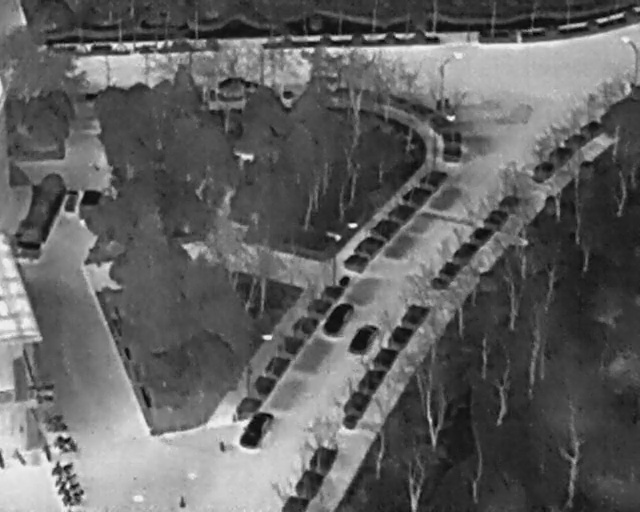Bicycle: (58, 484, 91, 511), (53, 474, 83, 497), (49, 457, 76, 476), (51, 466, 77, 485), (9, 444, 30, 467), (48, 432, 73, 448), (54, 440, 79, 456), (39, 441, 55, 465), (31, 381, 57, 394), (42, 411, 65, 425), (46, 420, 69, 434), (32, 392, 55, 404), (0, 445, 5, 469)
Car: (235, 403, 277, 455), (319, 294, 358, 342), (344, 317, 383, 362)
OtherVehicle: (72, 181, 106, 224)
